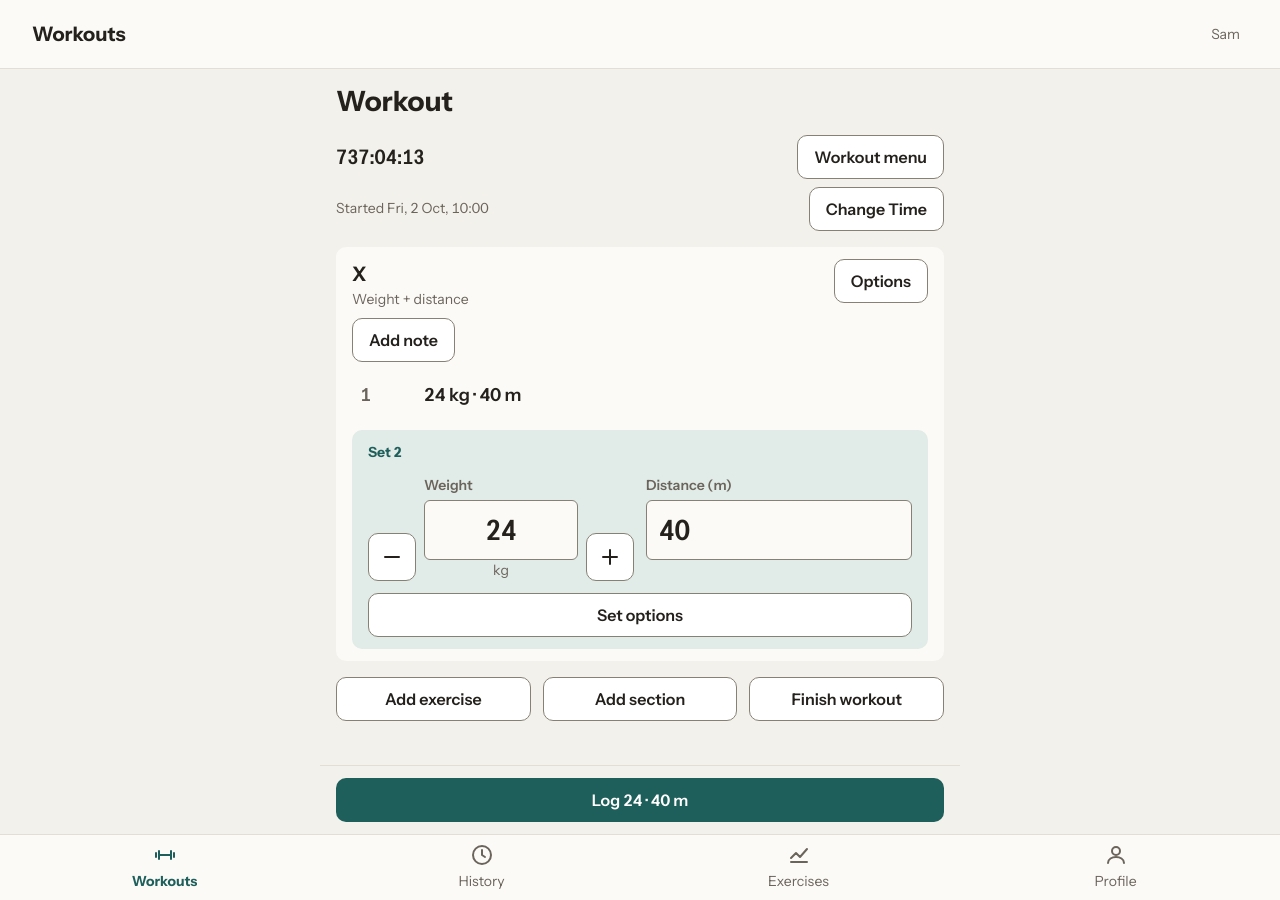
it: 18.1 AC20 — the live set sheet › a carry opens with Weight + unit and Distance + unit prefilled
Expected: the heading "Workout" is shown, [336,84,453,118]
Click the button "1 24 kg · 40 m" at [473, 395], box [352,374,928,418]
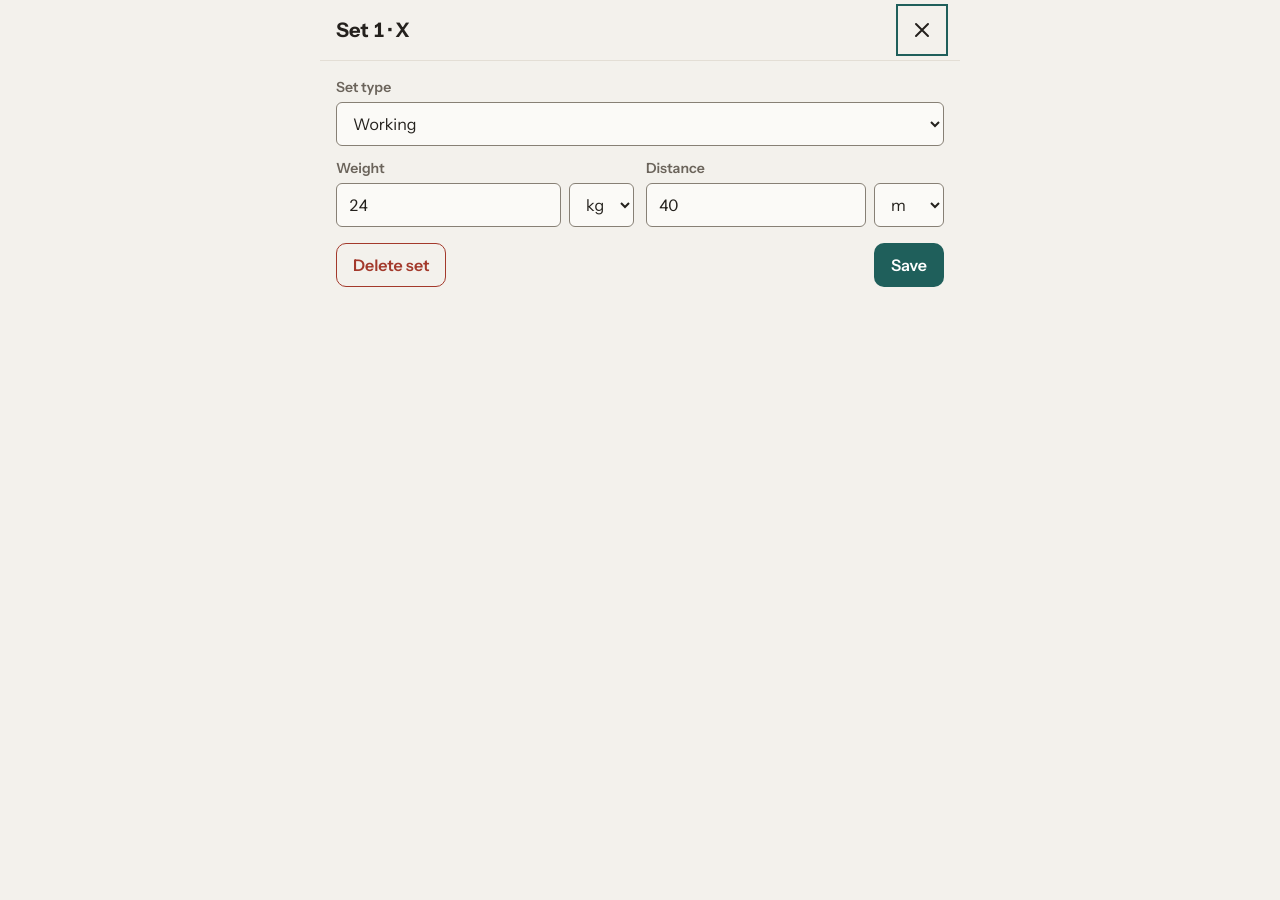
Expected: the field labelled "Weight" holds "24", [336,183,561,227]
Expected: the dropdown named "Weight unit" shows "kg", [569,183,634,227]
Expected: the field labelled "Distance" holds "40", [646,183,866,227]
